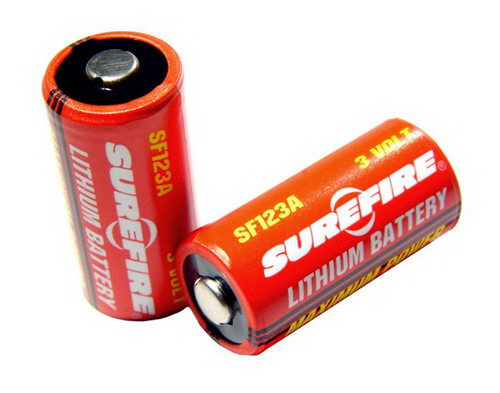Battery: (171, 113, 468, 361), (36, 27, 205, 325)
